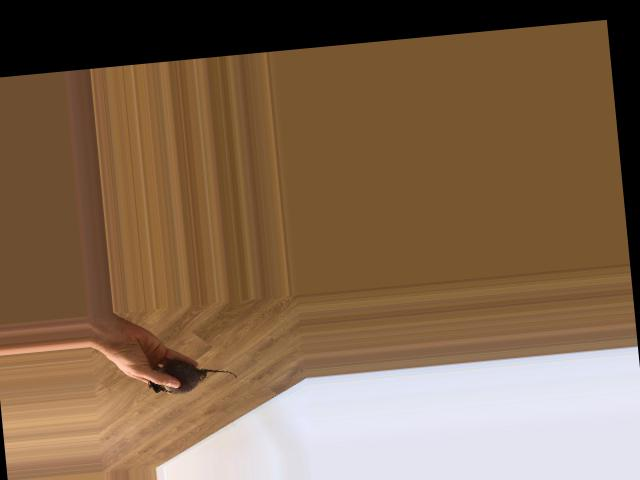beet: (146, 355, 238, 396)
